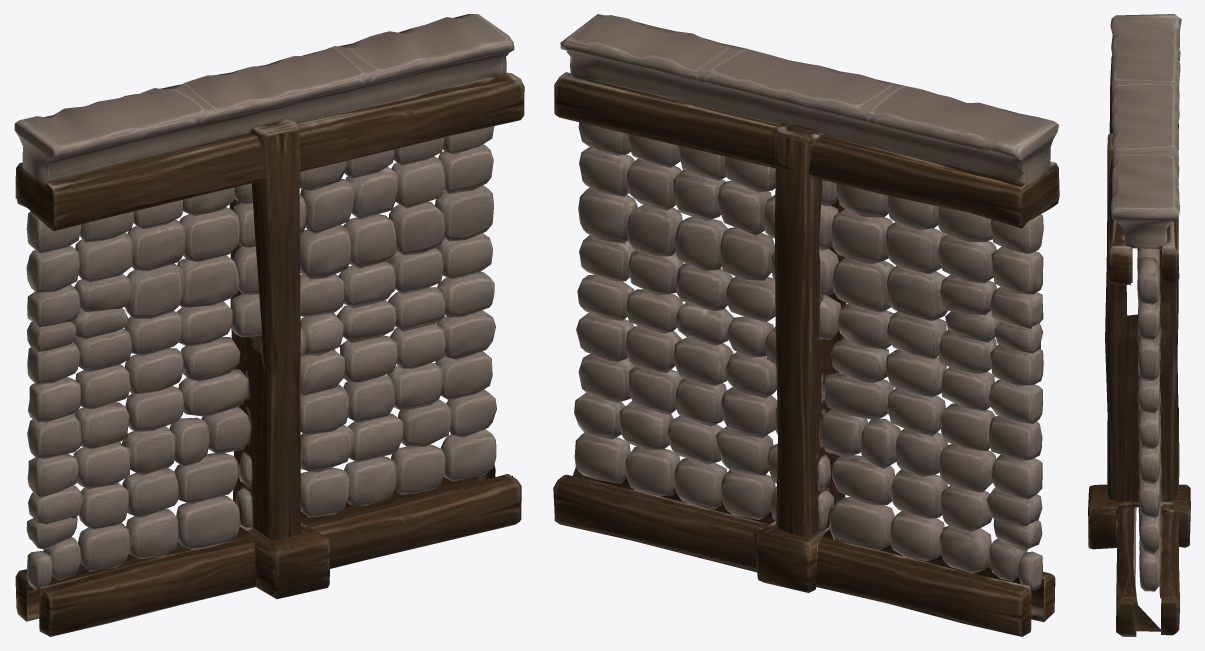
Rendered from sd_parede_esteio.glb.
The picture shows the model from 3 angles, left to right: view 1: azimuth 30°, elevation 25°; view 2: azimuth 150°, elevation 25°; view 3: azimuth 270°, elevation 25°; orthographic projection. The views are drawn at different scales.
Visible parts, largest first — view 1: Mesh_0; view 2: Mesh_0; view 3: Mesh_0.
Boxes of the visible parts, x1,y1,x2,y2 form: Mesh_0: (14,14,524,636); Mesh_0: (553,14,1059,636); Mesh_0: (1088,14,1190,636).
Size of the model in its own units: 0.4532 by 0.456 by 0.0994.
1 material, 1 textured.
